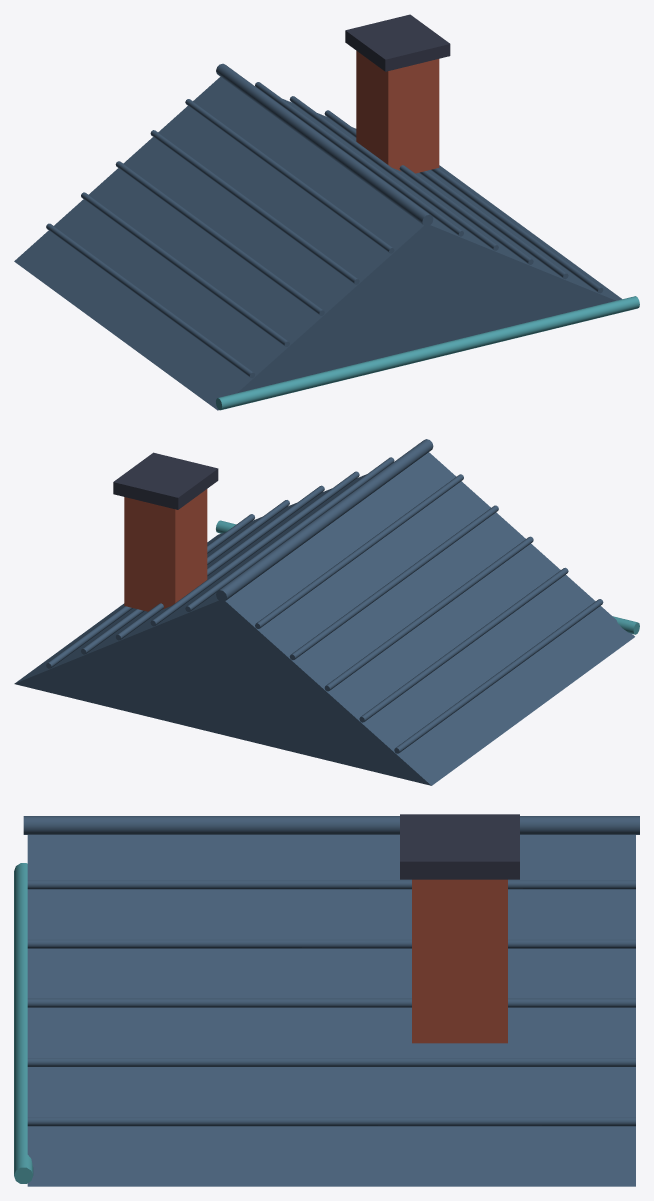
The model's file is roof_traditional_banks_0.glb.
3 renders of one model, top to bottom at view 1: azimuth 30°, elevation 25°; view 2: azimuth 150°, elevation 25°; view 3: azimuth 270°, elevation 25°, orthographic. The views are drawn at different scales.
Parts seen in each view (by area): view 1: roof_traditional_banks_0 slate, roof_traditional_banks_0 clay, roof_traditional_banks_0 river, roof_traditional_banks_0 ink; view 2: roof_traditional_banks_0 slate, roof_traditional_banks_0 clay, roof_traditional_banks_0 ink; view 3: roof_traditional_banks_0 slate, roof_traditional_banks_0 clay, roof_traditional_banks_0 ink, roof_traditional_banks_0 river.
Boxes of the visible parts, x1,y1,x2,y2 form: roof_traditional_banks_0 slate: (14, 63, 622, 410); roof_traditional_banks_0 clay: (356, 51, 439, 173); roof_traditional_banks_0 river: (216, 296, 639, 410); roof_traditional_banks_0 ink: (345, 14, 450, 71); roof_traditional_banks_0 slate: (14, 439, 634, 785); roof_traditional_banks_0 clay: (124, 489, 207, 611); roof_traditional_banks_0 ink: (113, 452, 218, 509); roof_traditional_banks_0 slate: (23, 816, 639, 1186); roof_traditional_banks_0 clay: (412, 879, 507, 1043); roof_traditional_banks_0 ink: (400, 814, 519, 879); roof_traditional_banks_0 river: (14, 863, 33, 1183).
Bounding box in the file's own units: 0.9 × 0.3875 × 0.782.
